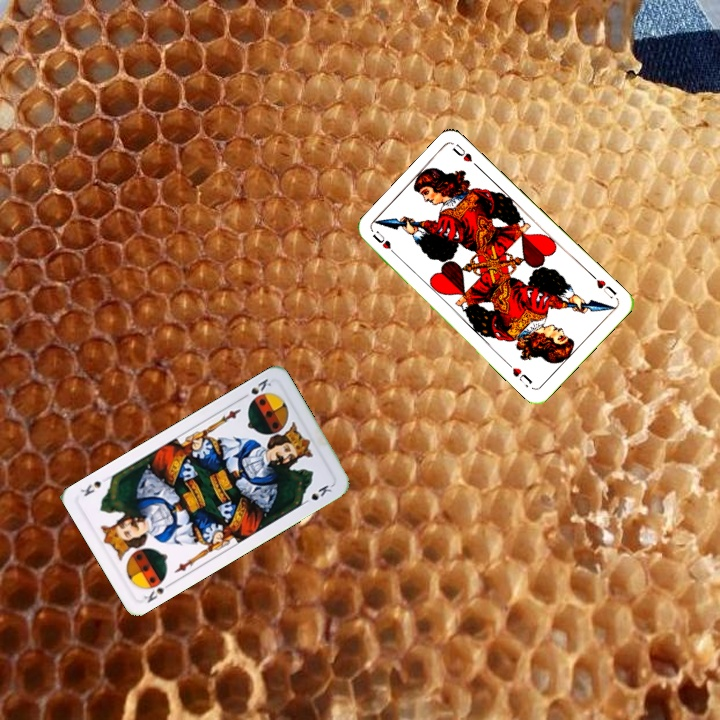HU: (368, 227, 401, 259), (587, 270, 619, 301)
SK: (140, 573, 175, 606), (237, 374, 274, 402)
